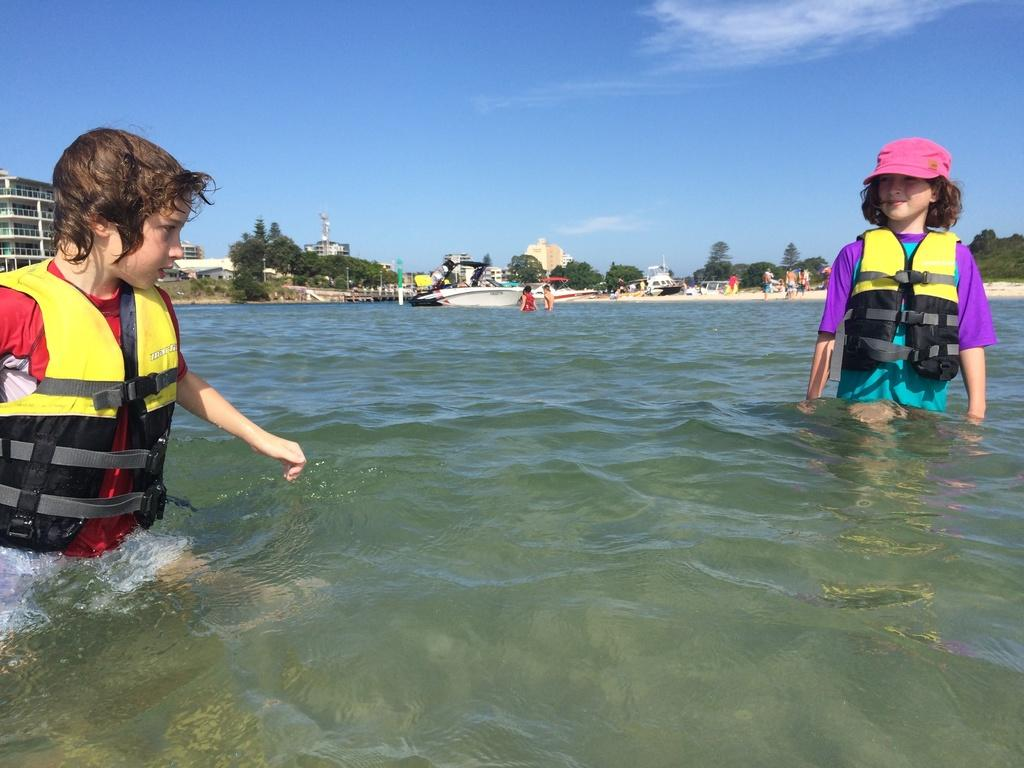Hat: (862, 136, 952, 184)
